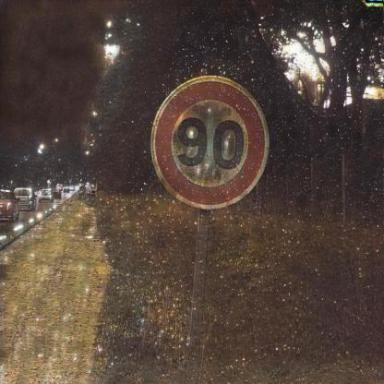Speed_limit_90: (156, 81, 267, 207)
